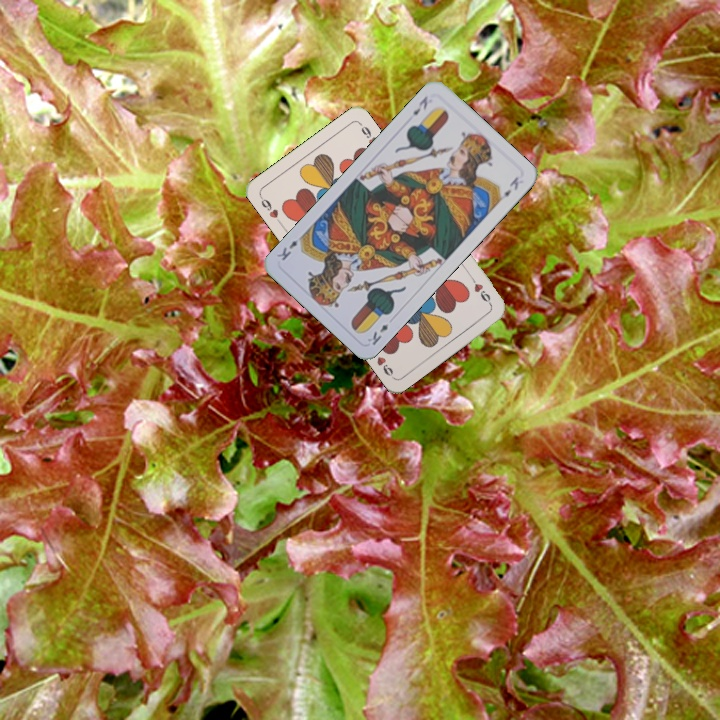EK: (363, 320, 391, 348), (408, 92, 430, 118)
H9: (466, 272, 494, 308), (256, 192, 284, 227)
